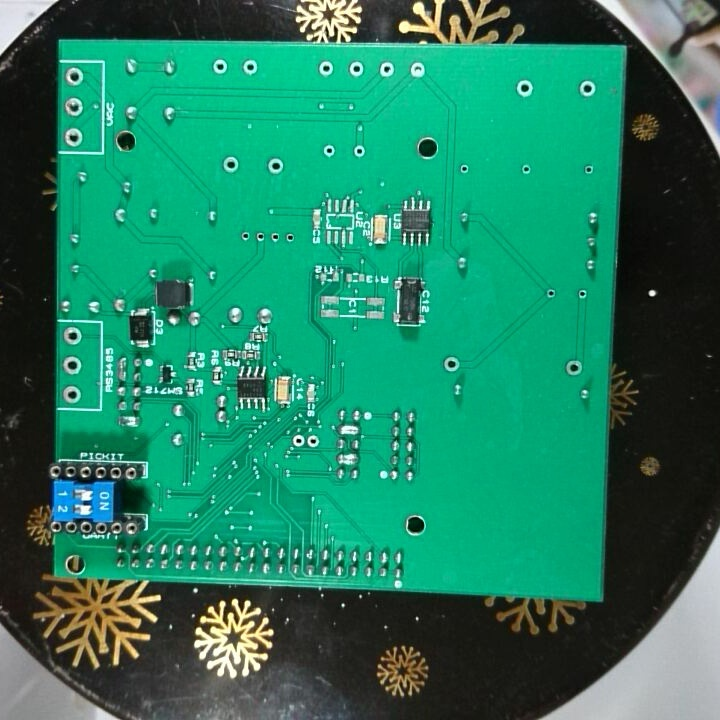F: (62, 322, 84, 348), (60, 383, 84, 406), (62, 126, 85, 150), (219, 152, 242, 176), (575, 76, 597, 100), (239, 55, 261, 78), (264, 155, 287, 177), (62, 353, 83, 377), (63, 96, 85, 118), (64, 66, 85, 89), (440, 352, 462, 373), (317, 57, 337, 80), (514, 78, 534, 100), (563, 356, 583, 378), (377, 60, 397, 80), (347, 59, 366, 79), (409, 59, 426, 80), (210, 58, 227, 78), (291, 430, 305, 452), (251, 228, 268, 246), (282, 229, 297, 248), (352, 143, 368, 160), (574, 286, 591, 302), (321, 142, 337, 158), (268, 229, 282, 246), (306, 432, 319, 450), (544, 286, 557, 304), (519, 160, 532, 177), (457, 161, 471, 176), (238, 228, 252, 243), (582, 162, 595, 176)
P: (114, 412, 145, 431), (336, 450, 362, 468), (115, 353, 129, 384), (337, 422, 362, 438)
